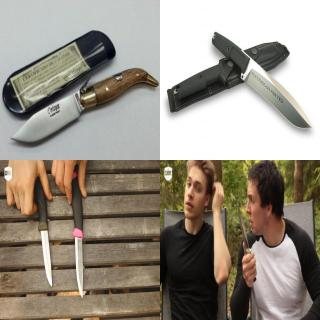knife: (240, 56, 314, 133), (6, 82, 93, 144), (35, 213, 55, 291), (235, 200, 256, 268), (70, 221, 86, 301)
